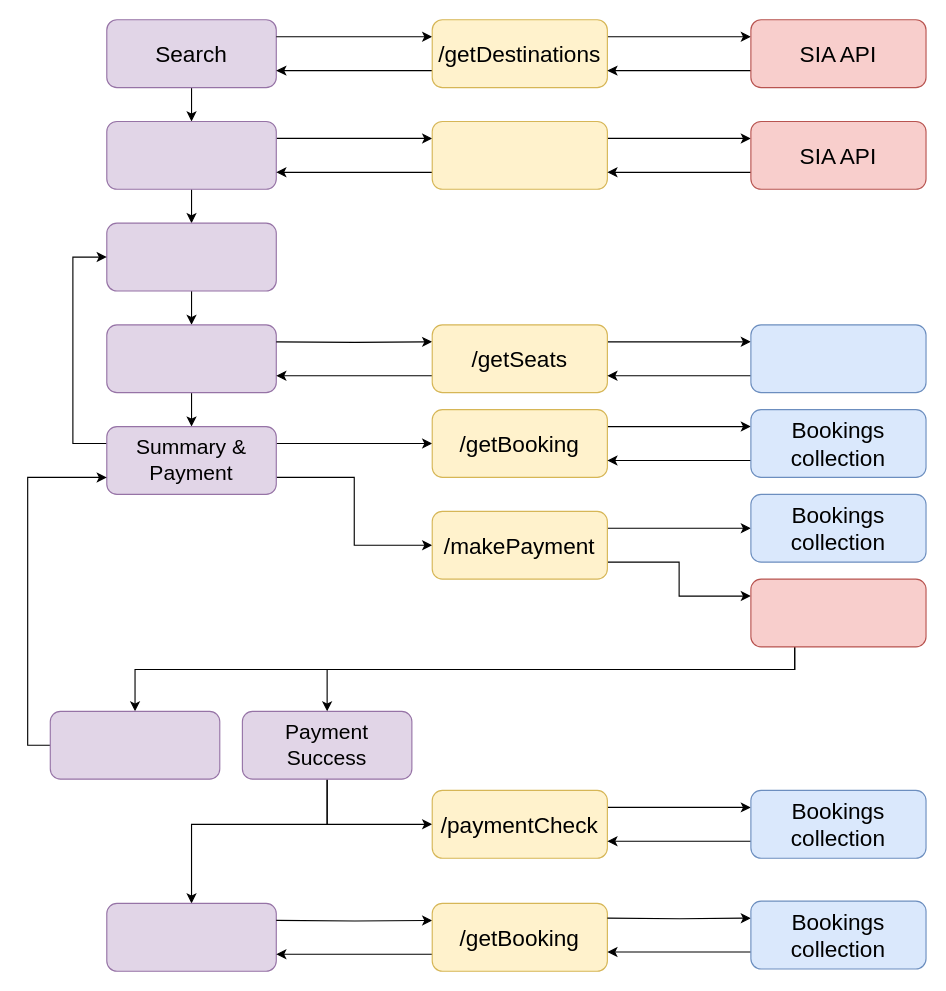
Image size: 946x991. Some labels were removed from this diagram. The shapes that lost their labels are listed below. From the top down, each one's box as (x1, y1, x2, y2) in pixels, then its label:
(106, 120, 276, 189): Results
(431, 120, 607, 189): /getFlights
(106, 222, 276, 291): Passengers Details
(106, 324, 276, 393): Seat Selector
(750, 324, 926, 393): Flights collection
(750, 578, 926, 647): Stripe API
(49, 710, 220, 779): Payment Failed
(106, 902, 276, 971): Summary
